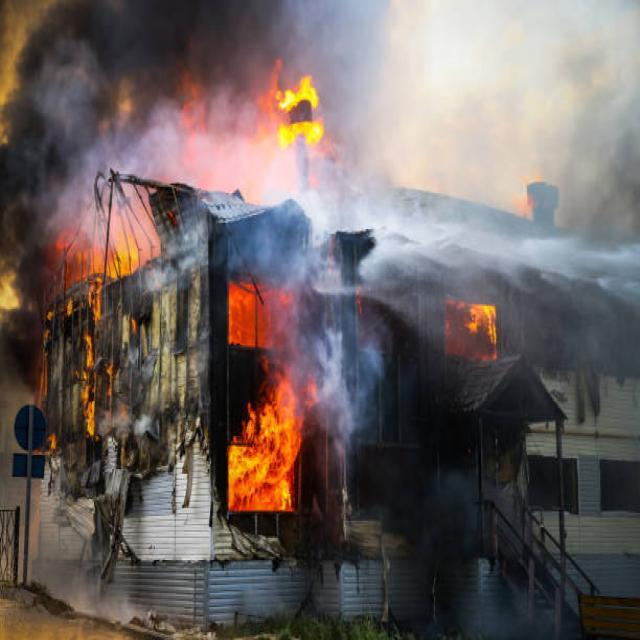Fire: (28, 177, 155, 408), (228, 278, 318, 549), (240, 42, 336, 182), (180, 44, 233, 184), (446, 298, 512, 360)
Smoke: (0, 1, 640, 484)
